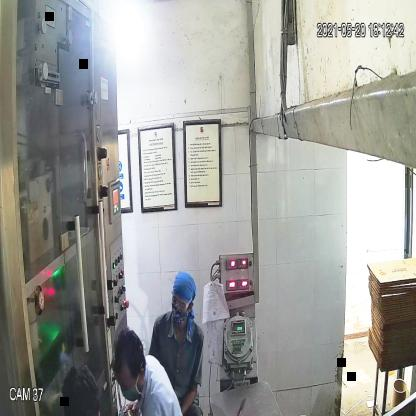goggles: (168, 293, 193, 312)
